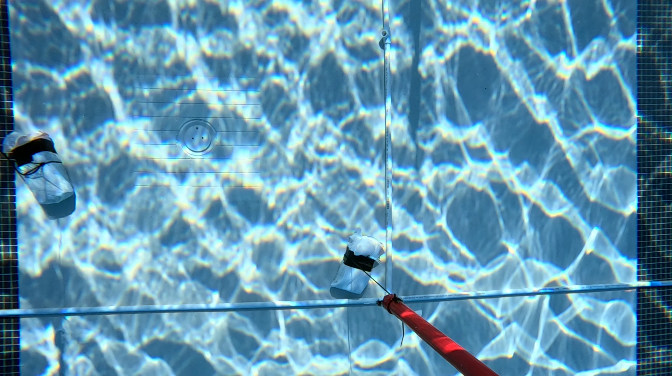sandbag: (0, 130, 72, 203), (333, 235, 378, 292)
